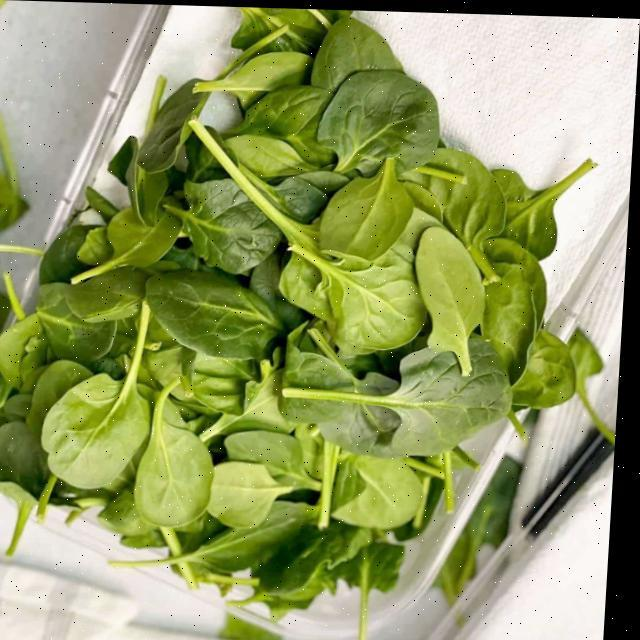Spinach: (0, 0, 611, 631)
